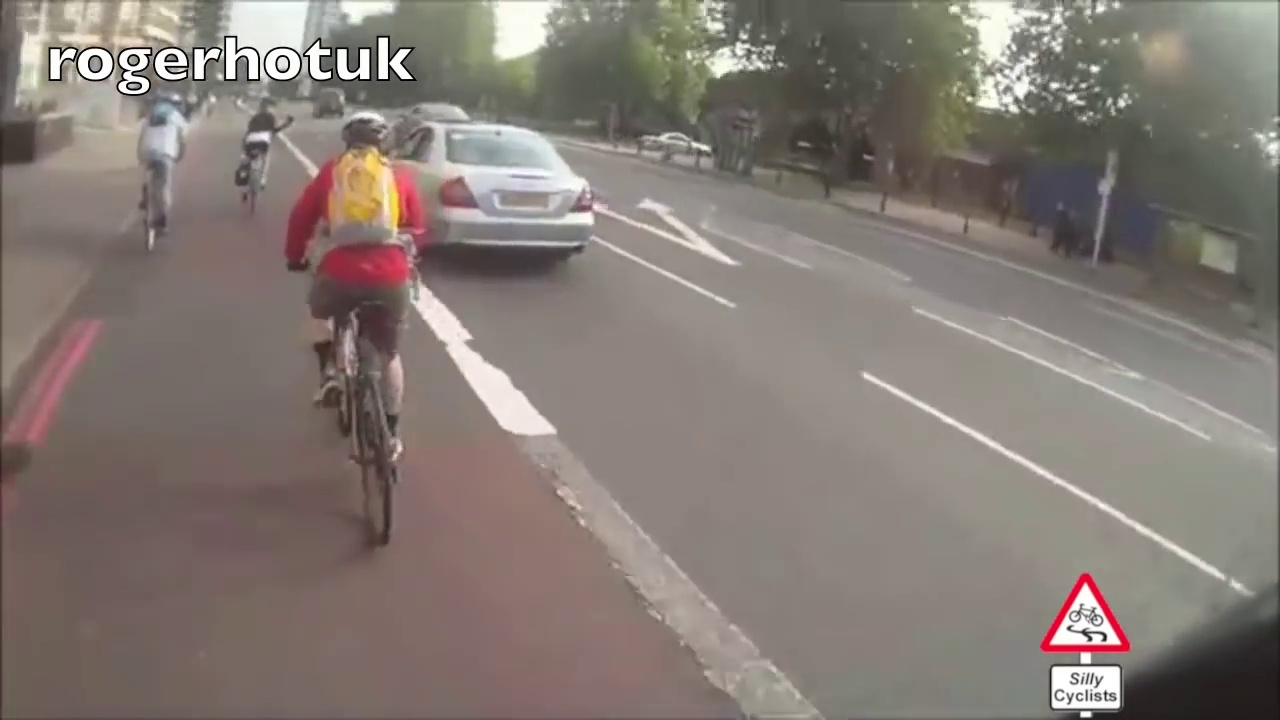cyclist_back: (279, 112, 419, 569), (128, 94, 191, 252), (236, 92, 275, 216)
